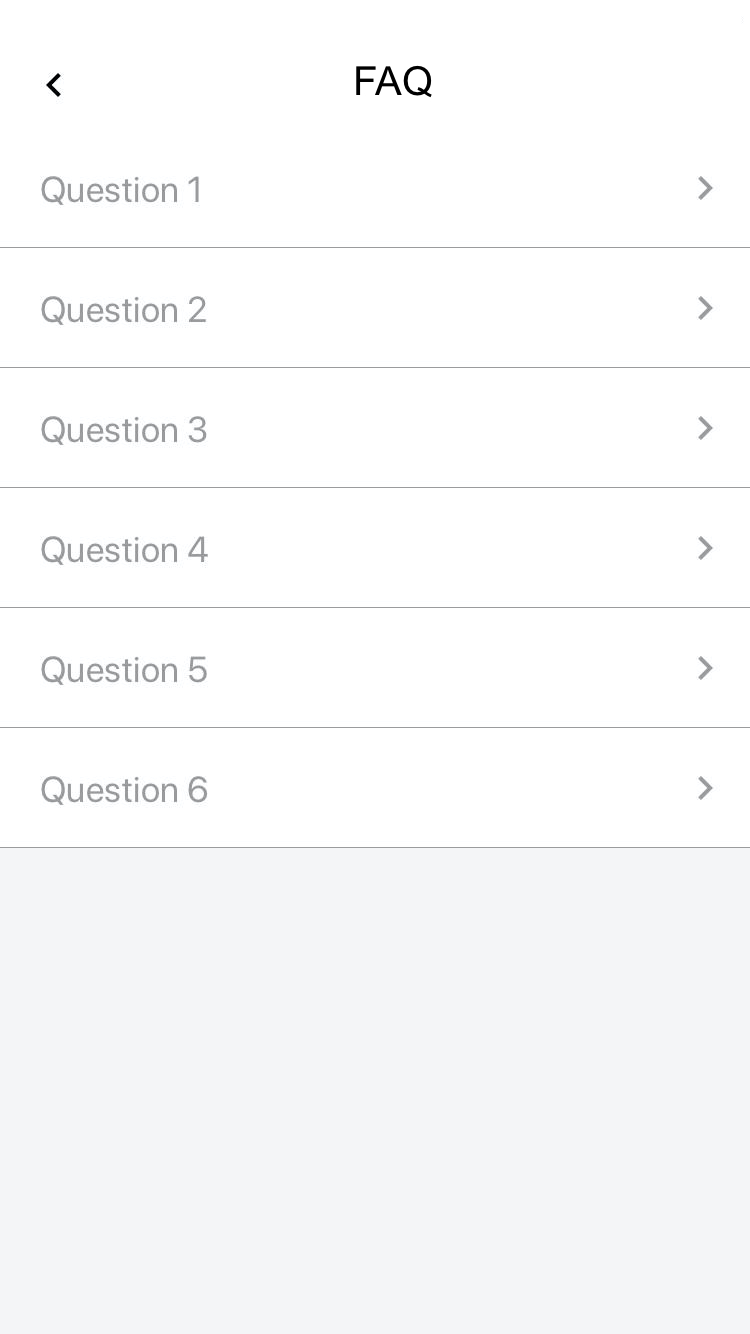Icon: (47, 74, 64, 98), (697, 656, 714, 680), (697, 296, 714, 319), (697, 416, 713, 440), (698, 176, 713, 201), (698, 537, 713, 562), (698, 776, 713, 800)
Text: (42, 775, 208, 806), (42, 536, 209, 566), (42, 656, 209, 686), (42, 416, 208, 446), (42, 296, 207, 326), (41, 176, 201, 206), (356, 66, 434, 99)
